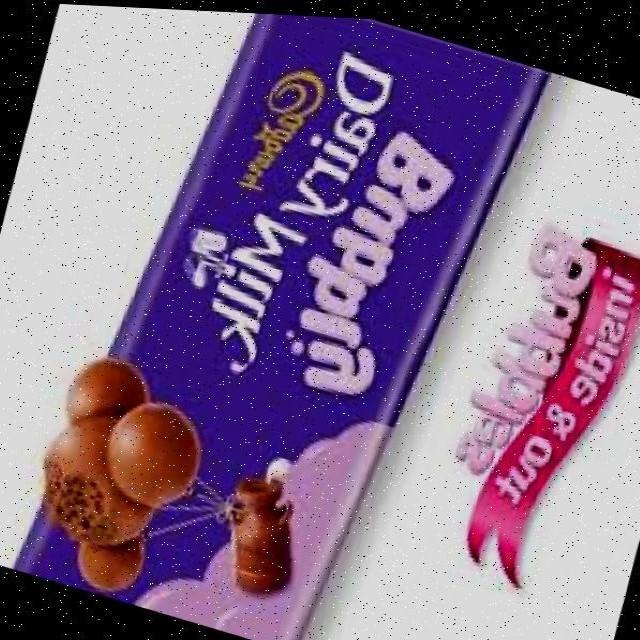cadbury_chocolate: (113, 20, 467, 632)
